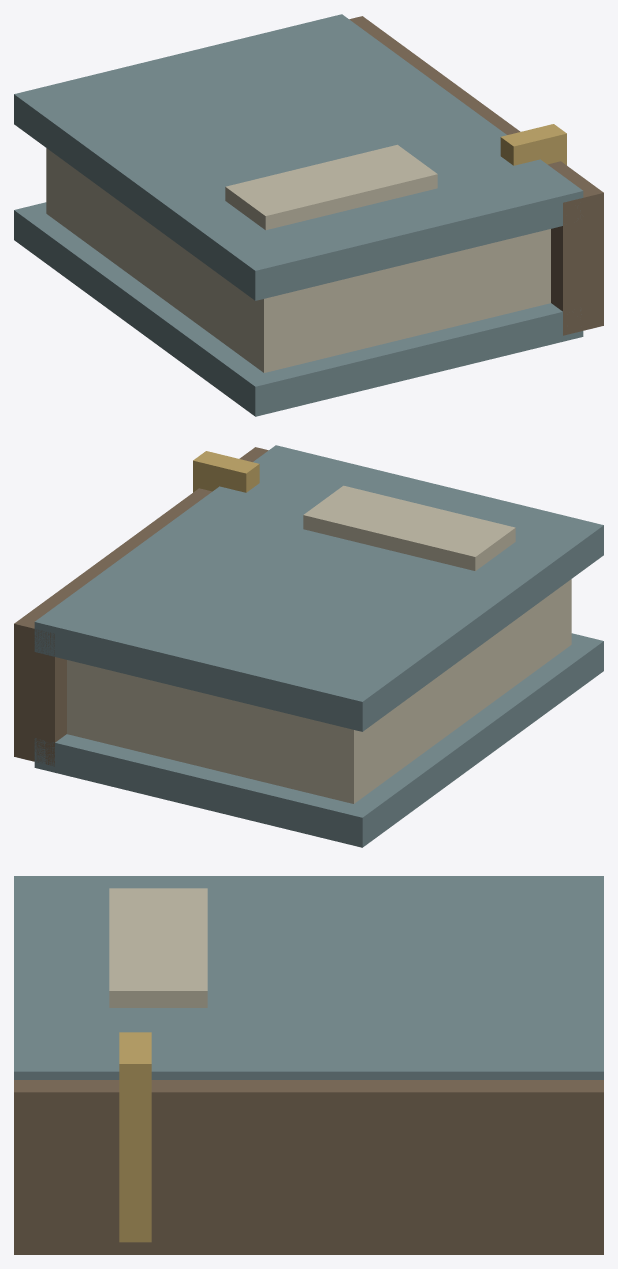
The model's file is spread-portable-codex08.fbx.
3 views of the same model, one above another, from view 1: azimuth 30°, elevation 25°; view 2: azimuth 150°, elevation 25°; view 3: azimuth 270°, elevation 25° (orthographic). The views are drawn at different scales.
Parts seen in each view (by area): view 1: spread-portable-codex08__Geometry; view 2: spread-portable-codex08__Geometry; view 3: spread-portable-codex08__Geometry.
Part boxes in pixels (x1=…): spread-portable-codex08__Geometry: x1=14, y1=14, x2=603, y2=416; spread-portable-codex08__Geometry: x1=14, y1=445, x2=603, y2=847; spread-portable-codex08__Geometry: x1=14, y1=876, x2=603, y2=1254.
Size of the model in its own units: 0.4325 by 0.1925 by 0.51.
